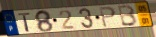2: (59, 9, 75, 30)
3: (78, 7, 95, 29)
8: (33, 9, 55, 34)
B: (117, 4, 139, 27)
P: (98, 5, 117, 28)
T: (17, 12, 32, 33)
